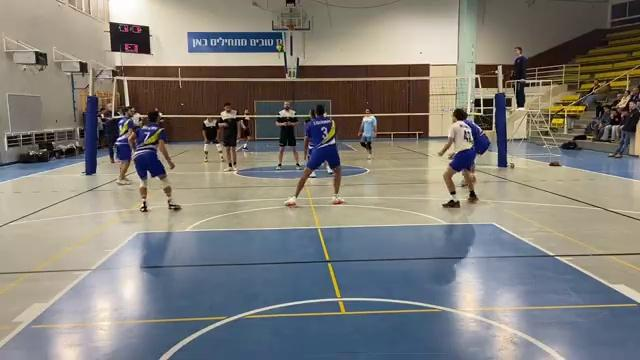ball: (275, 44, 284, 54)
